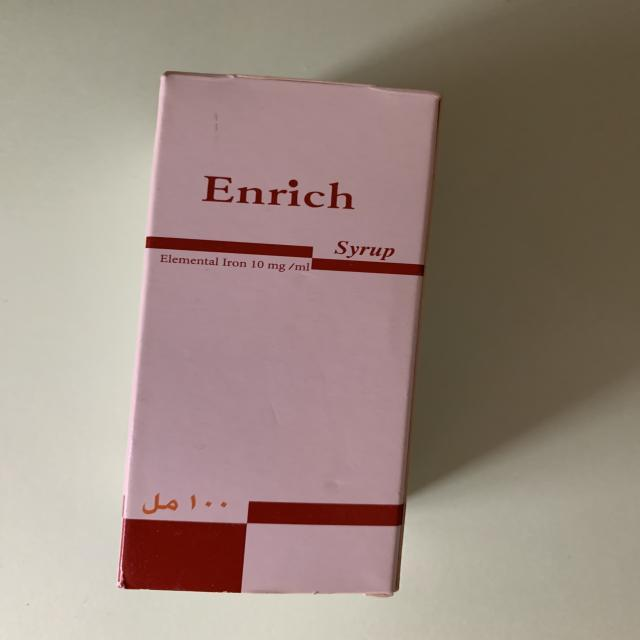Medicine Name: (191, 165, 370, 216)
